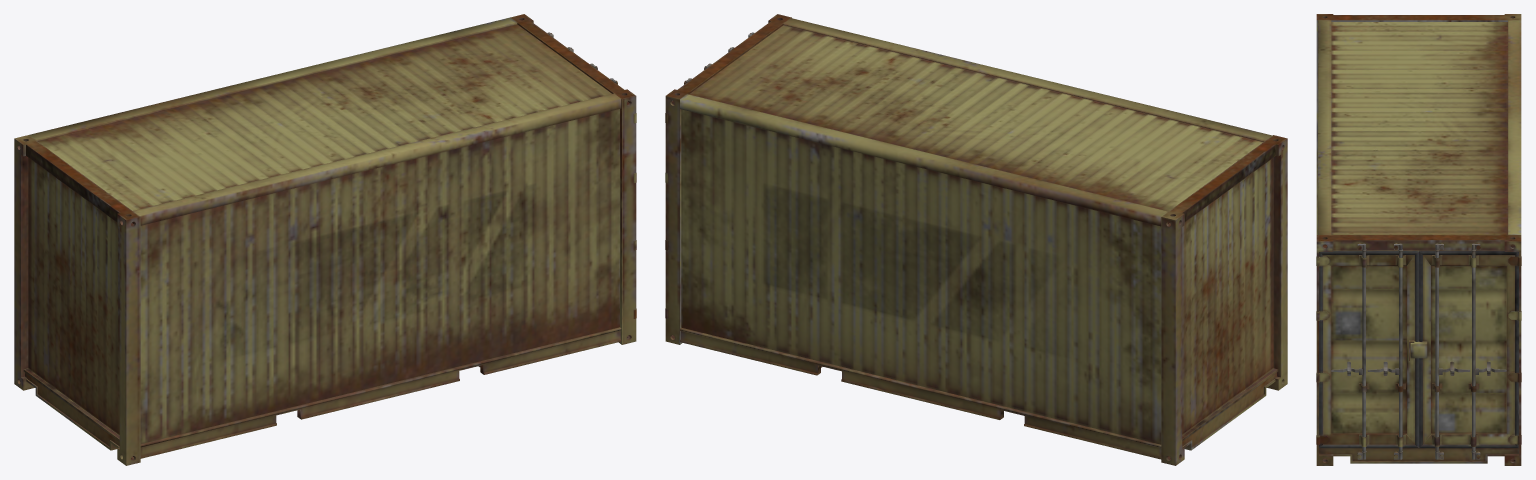
File: container_20_green.glb
3 views of the same model, side by side, from view 1: azimuth 30°, elevation 25°; view 2: azimuth 150°, elevation 25°; view 3: azimuth 270°, elevation 25° (orthographic). The views are drawn at different scales.
Parts seen in each view (by area): view 1: container_20_green; view 2: container_20_green; view 3: container_20_green.
Boxes of the visible parts, box(x1,y1,x2,y2) form: container_20_green: box(14, 14, 636, 465); container_20_green: box(665, 14, 1287, 465); container_20_green: box(1316, 14, 1521, 465).
Bounding box in the file's own units: 6.06 × 2.77 × 2.29.
Materials: 1 (1 with a texture image).
